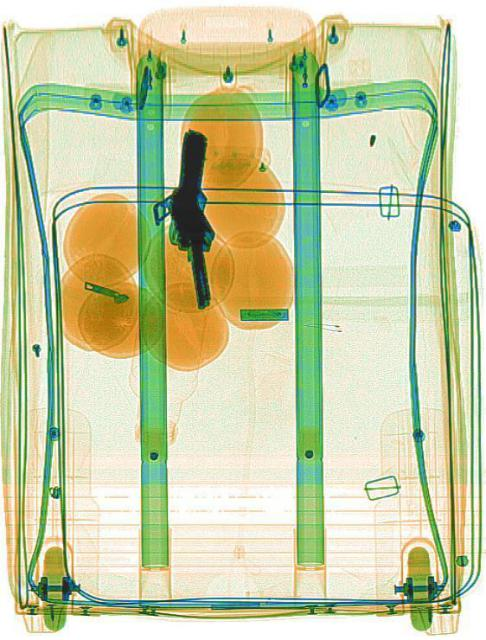Gun: (143, 121, 243, 259), (148, 178, 223, 316)
